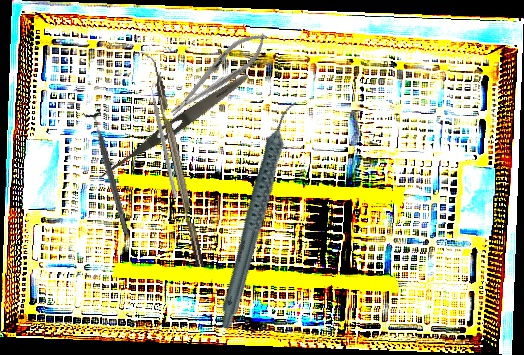Chopper: (140, 48, 204, 270)
Dressing Forceps: (94, 69, 252, 186)
Fixation Ring: (81, 108, 137, 237)
Handpiece: (176, 98, 343, 331)
Needle Holder: (161, 22, 276, 126)
Spatula Surgical: (146, 80, 183, 199)
